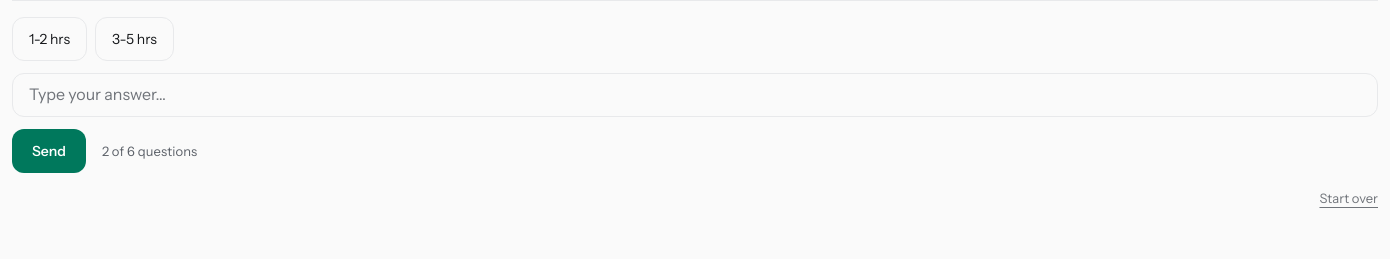
Test: Composer › unlocks the box when the answer is handed back
Type "beginner" into the field labelled "your answer". click: (695, 95)
box: [12,73,1378,117]
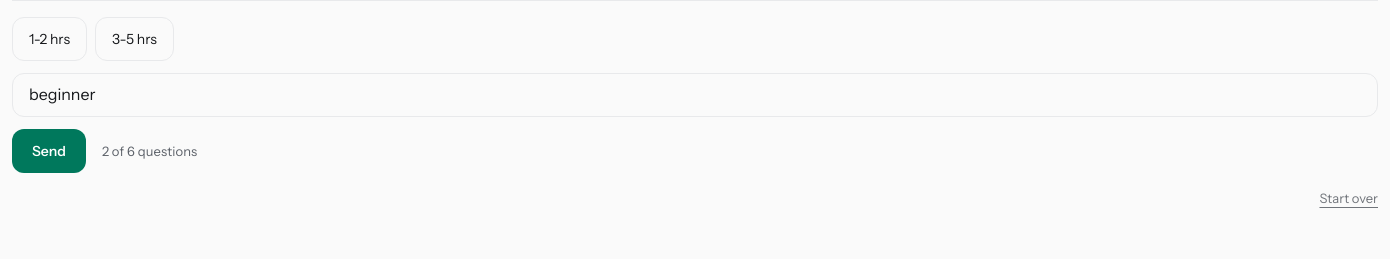
Submit the form named "Your answer", box [12,73,1378,173]
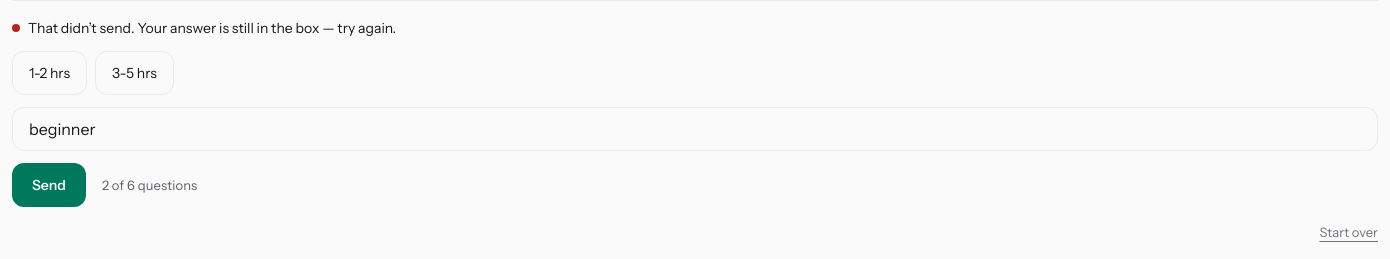
expect the text "didn.t send" is shown: met, box [28,19,396,37]
